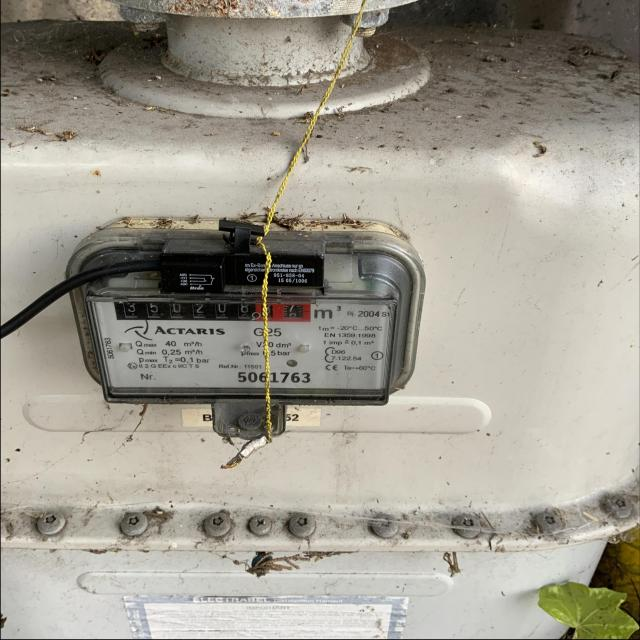gaz_meter: (89, 294, 395, 402)
indication: (113, 302, 314, 322)
